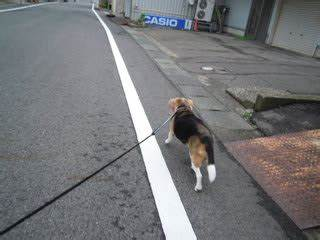kopek: (145, 87, 247, 195)
